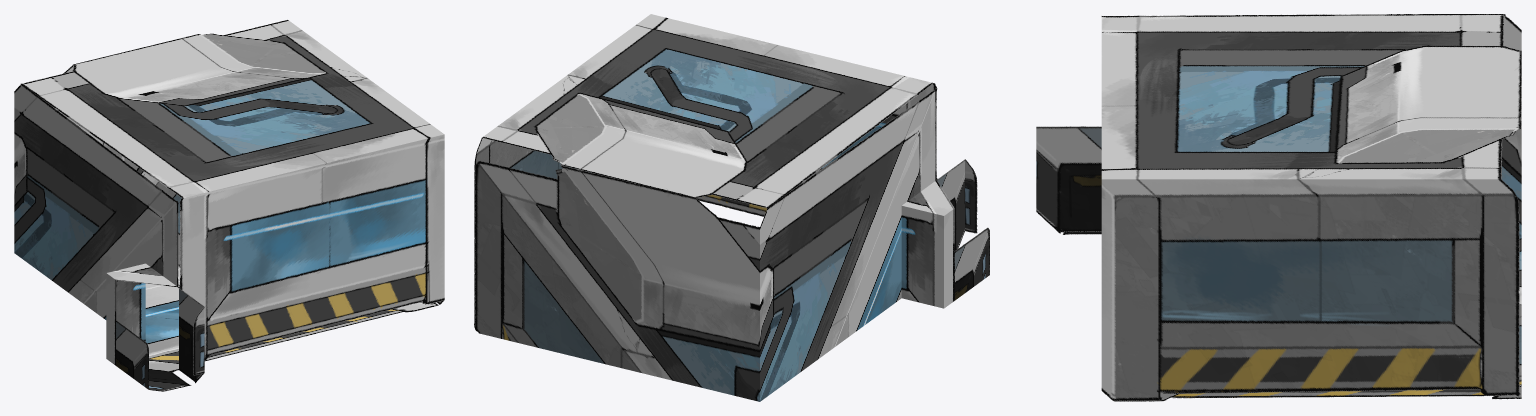
Rendered from B-4build2.fbx.
The picture shows the model from 3 angles, left to right: view 1: azimuth 30°, elevation 25°; view 2: azimuth 150°, elevation 25°; view 3: azimuth 270°, elevation 25°; orthographic projection. The views are drawn at different scales.
Parts seen in each view (by area): view 1: 立方体; view 2: 立方体; view 3: 立方体.
Part boxes in pixels (x1=…): 立方体: x1=14, y1=19, x2=444, y2=391; 立方体: x1=474, y1=14, x2=989, y2=401; 立方体: x1=1036, y1=14, x2=1521, y2=401.
Bounding box in the file's own units: 1535 × 839 × 1658.
